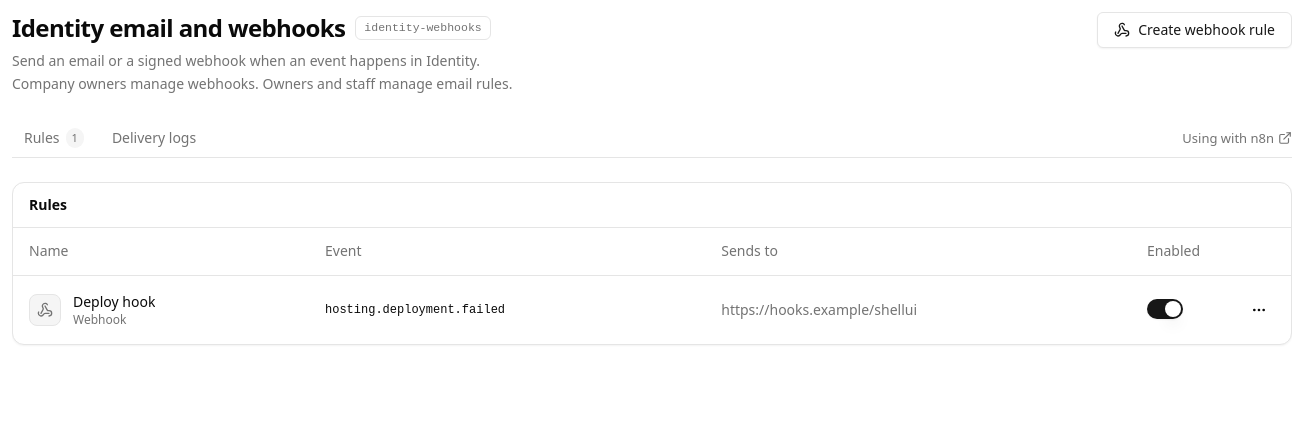
ActionsRulesListPage action feedback › shows a delete failure on the row and a delete success where the rule was
Press Enter in the button named "More actions for Deploy hook", box [1243,294,1275,326]
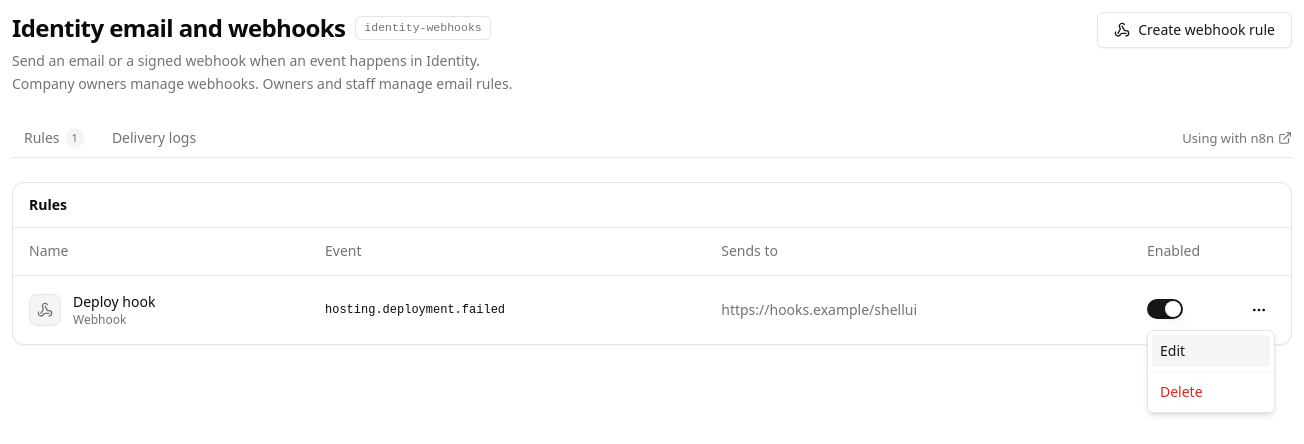
Click the menu item "Delete". click: click(1181, 392)
box: [1160,382,1203,401]
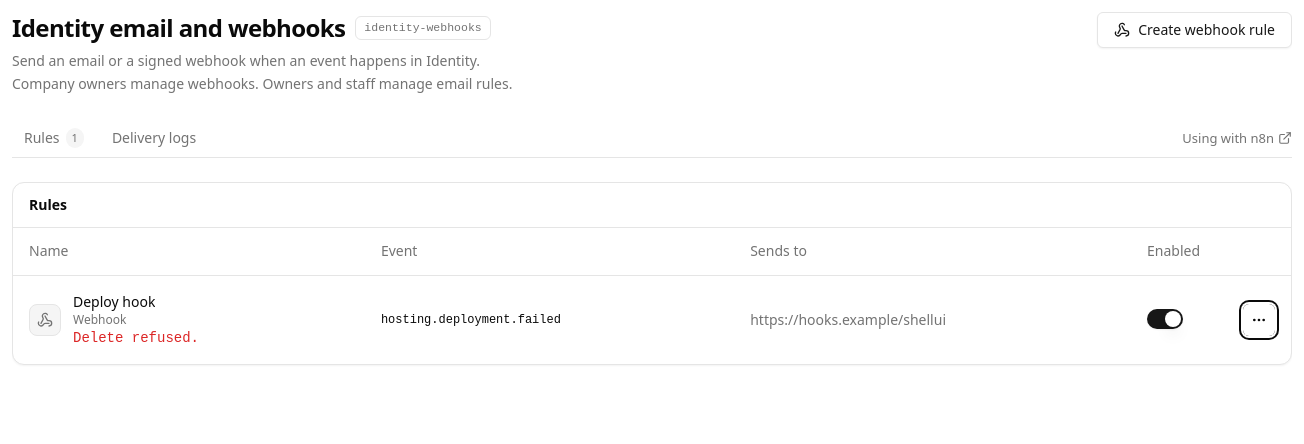
Result: the text "Delete refused." is shown once at [73,328,199,348]
Press Enter in the button named "More actions for Deploy hook", box [1243,304,1275,336]
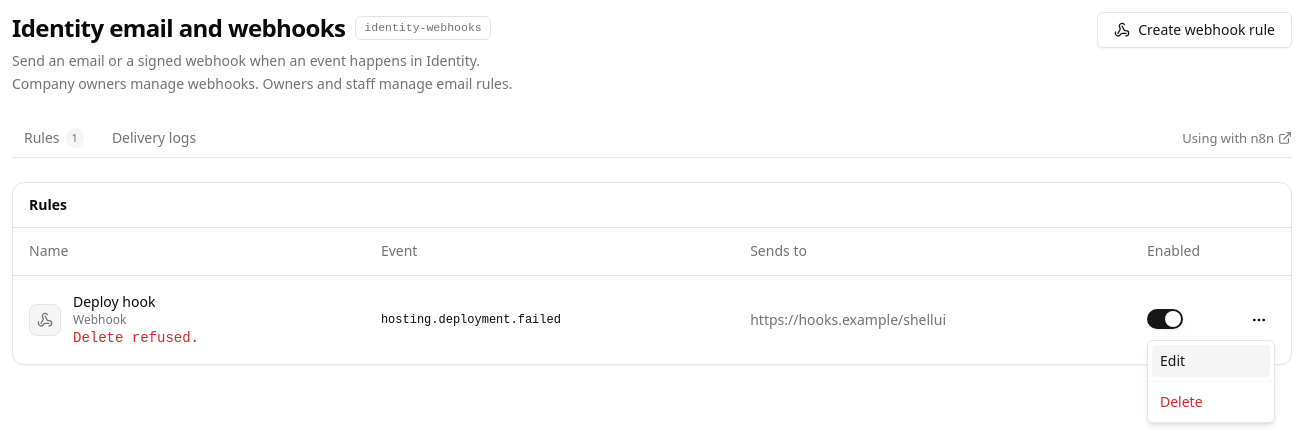
Click the menu item "Delete". click: click(1181, 402)
box: [1160,392,1203,411]
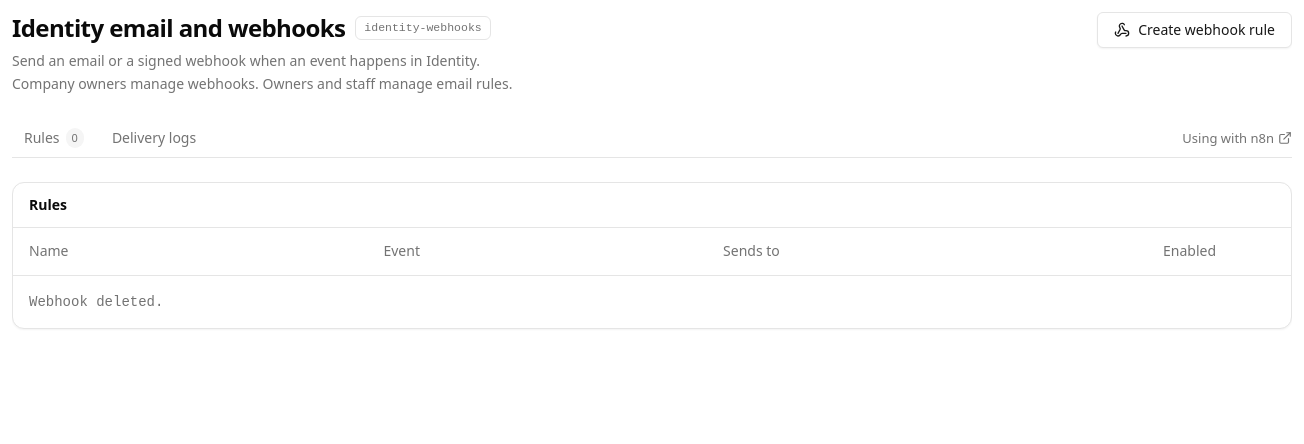
Result: the text "Delete refused." is gone
